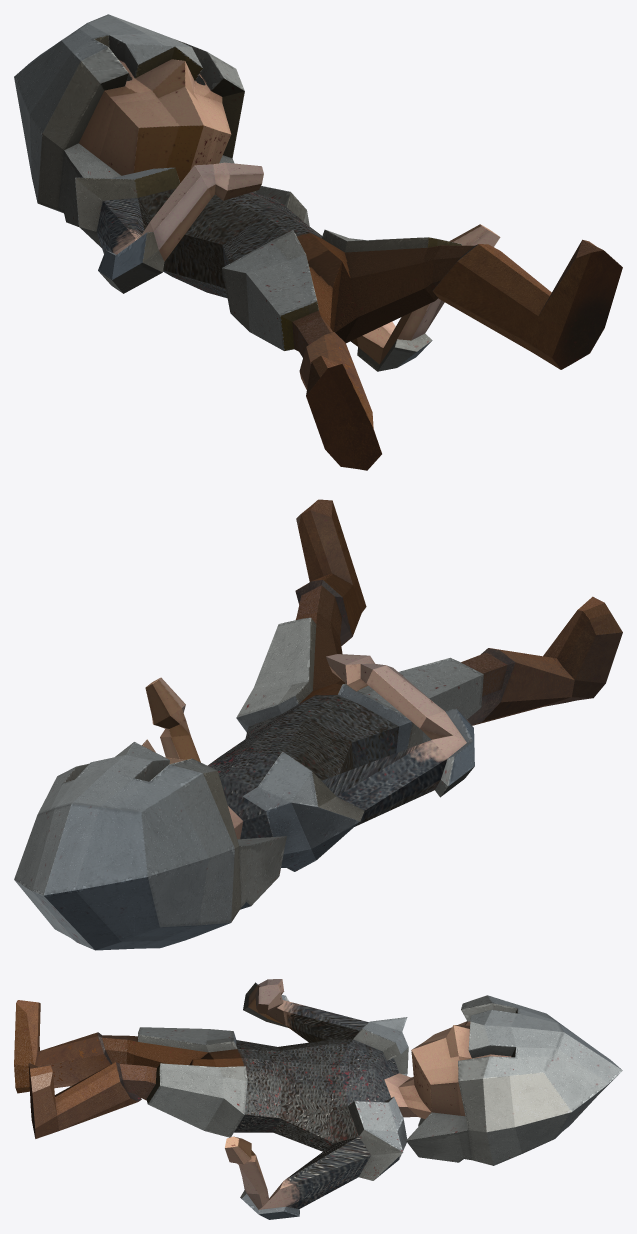
File: Walk_Soldier_11.obj
3 views of the same model, one above another, from view 1: azimuth 30°, elevation 25°; view 2: azimuth 150°, elevation 25°; view 3: azimuth 270°, elevation 25° (orthographic). The views are drawn at different scales.
Parts seen in each view (by area): view 1: Soldado_LowPolySTD; view 2: Soldado_LowPolySTD; view 3: Soldado_LowPolySTD.
Part boxes in pixels (<box>): Soldado_LowPolySTD: <box>14,14,622,470</box>; Soldado_LowPolySTD: <box>14,499,622,950</box>; Soldado_LowPolySTD: <box>14,979,622,1219</box>.
Bounding box in the file's own units: 0.7767 × 0.5064 × 1.6.
